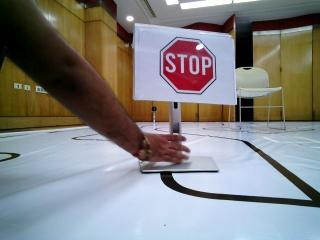stop: (132, 29, 230, 97)
